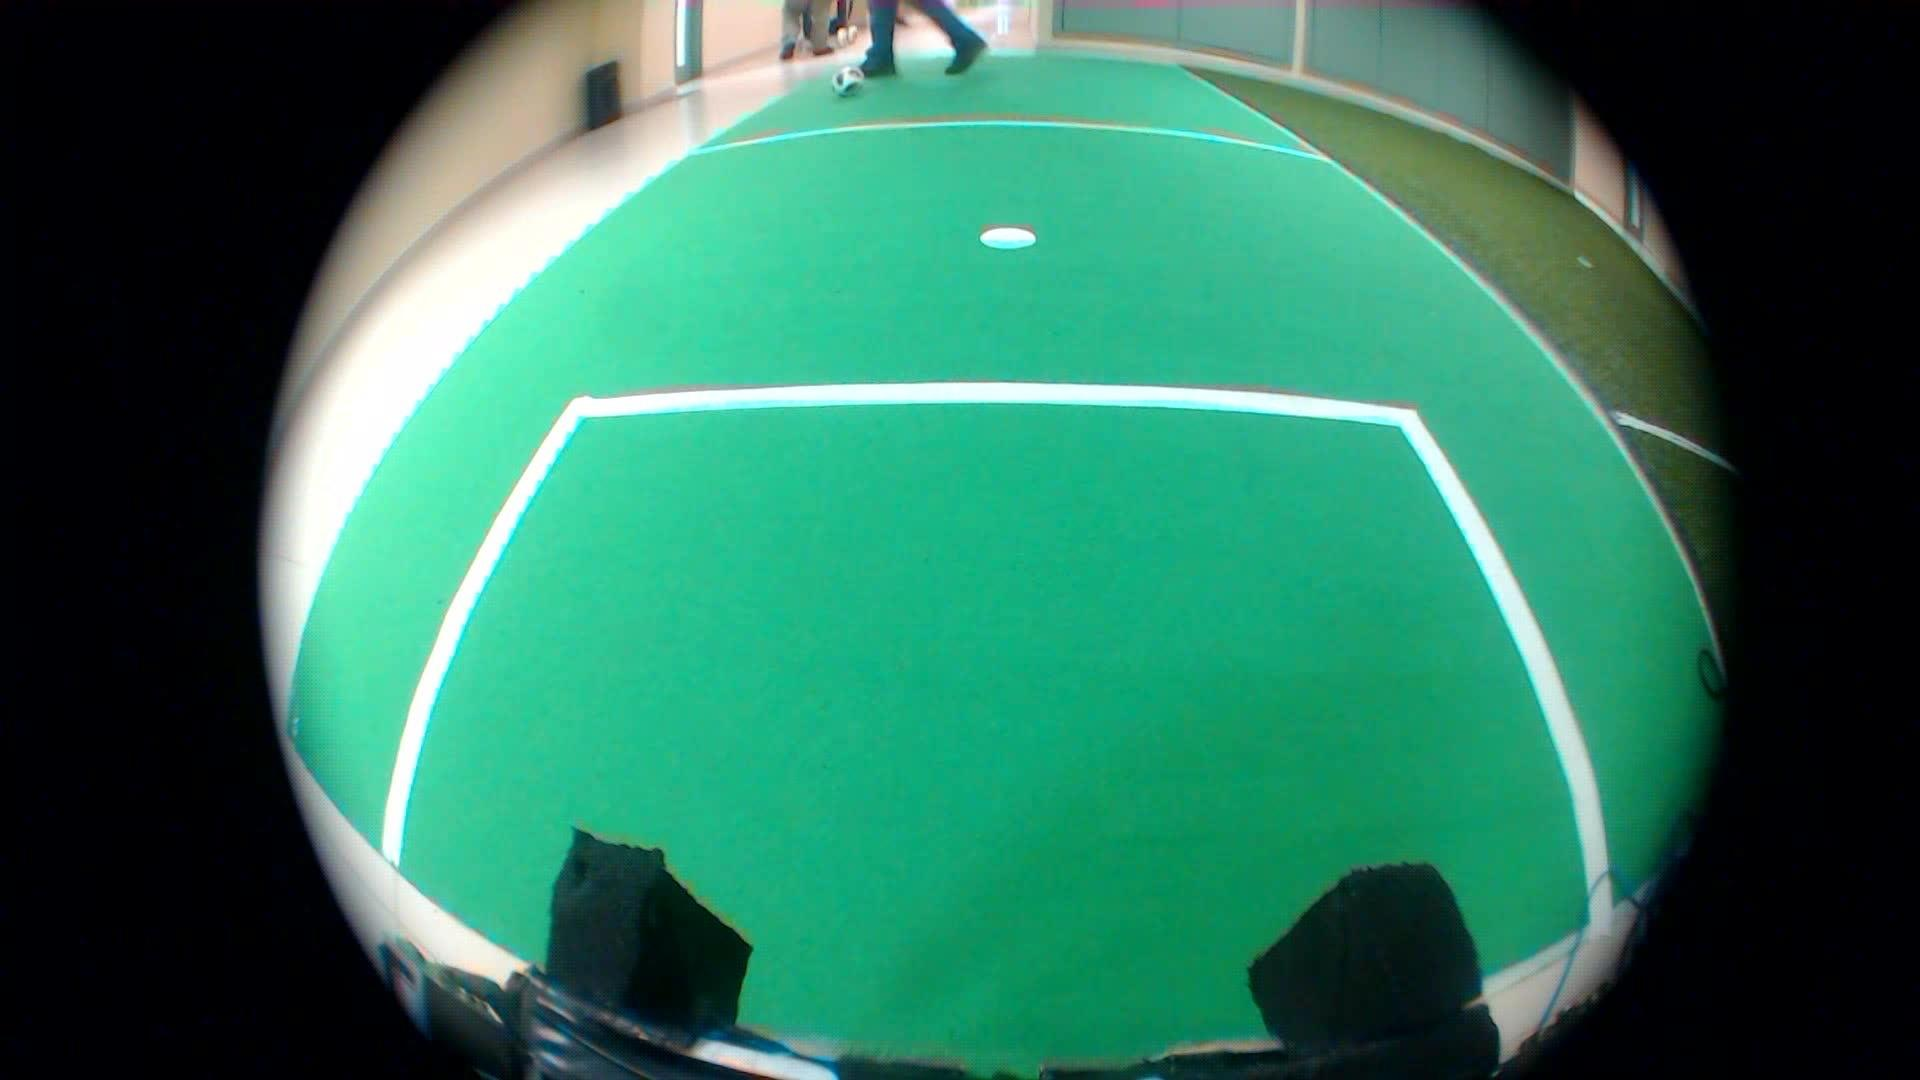ball: (828, 65, 866, 105)
